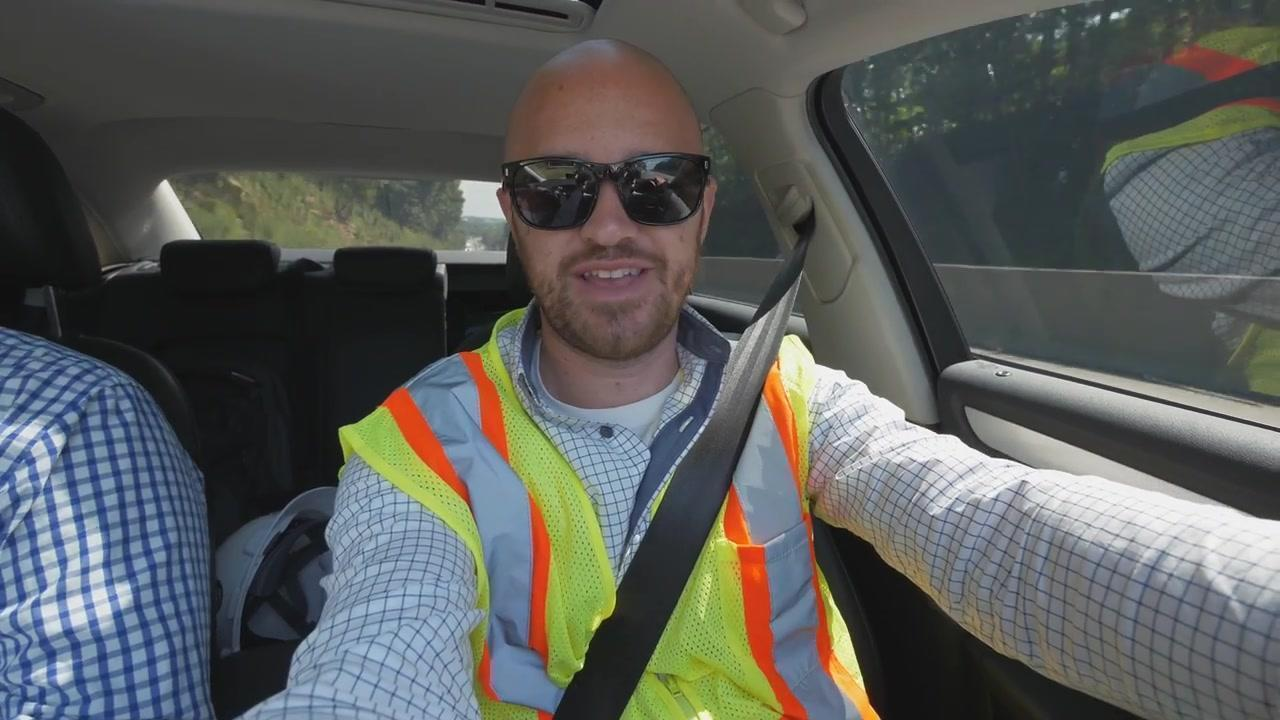helmet: (214, 486, 341, 649)
no-helmet: (486, 26, 722, 245)
vest: (334, 309, 884, 719)
